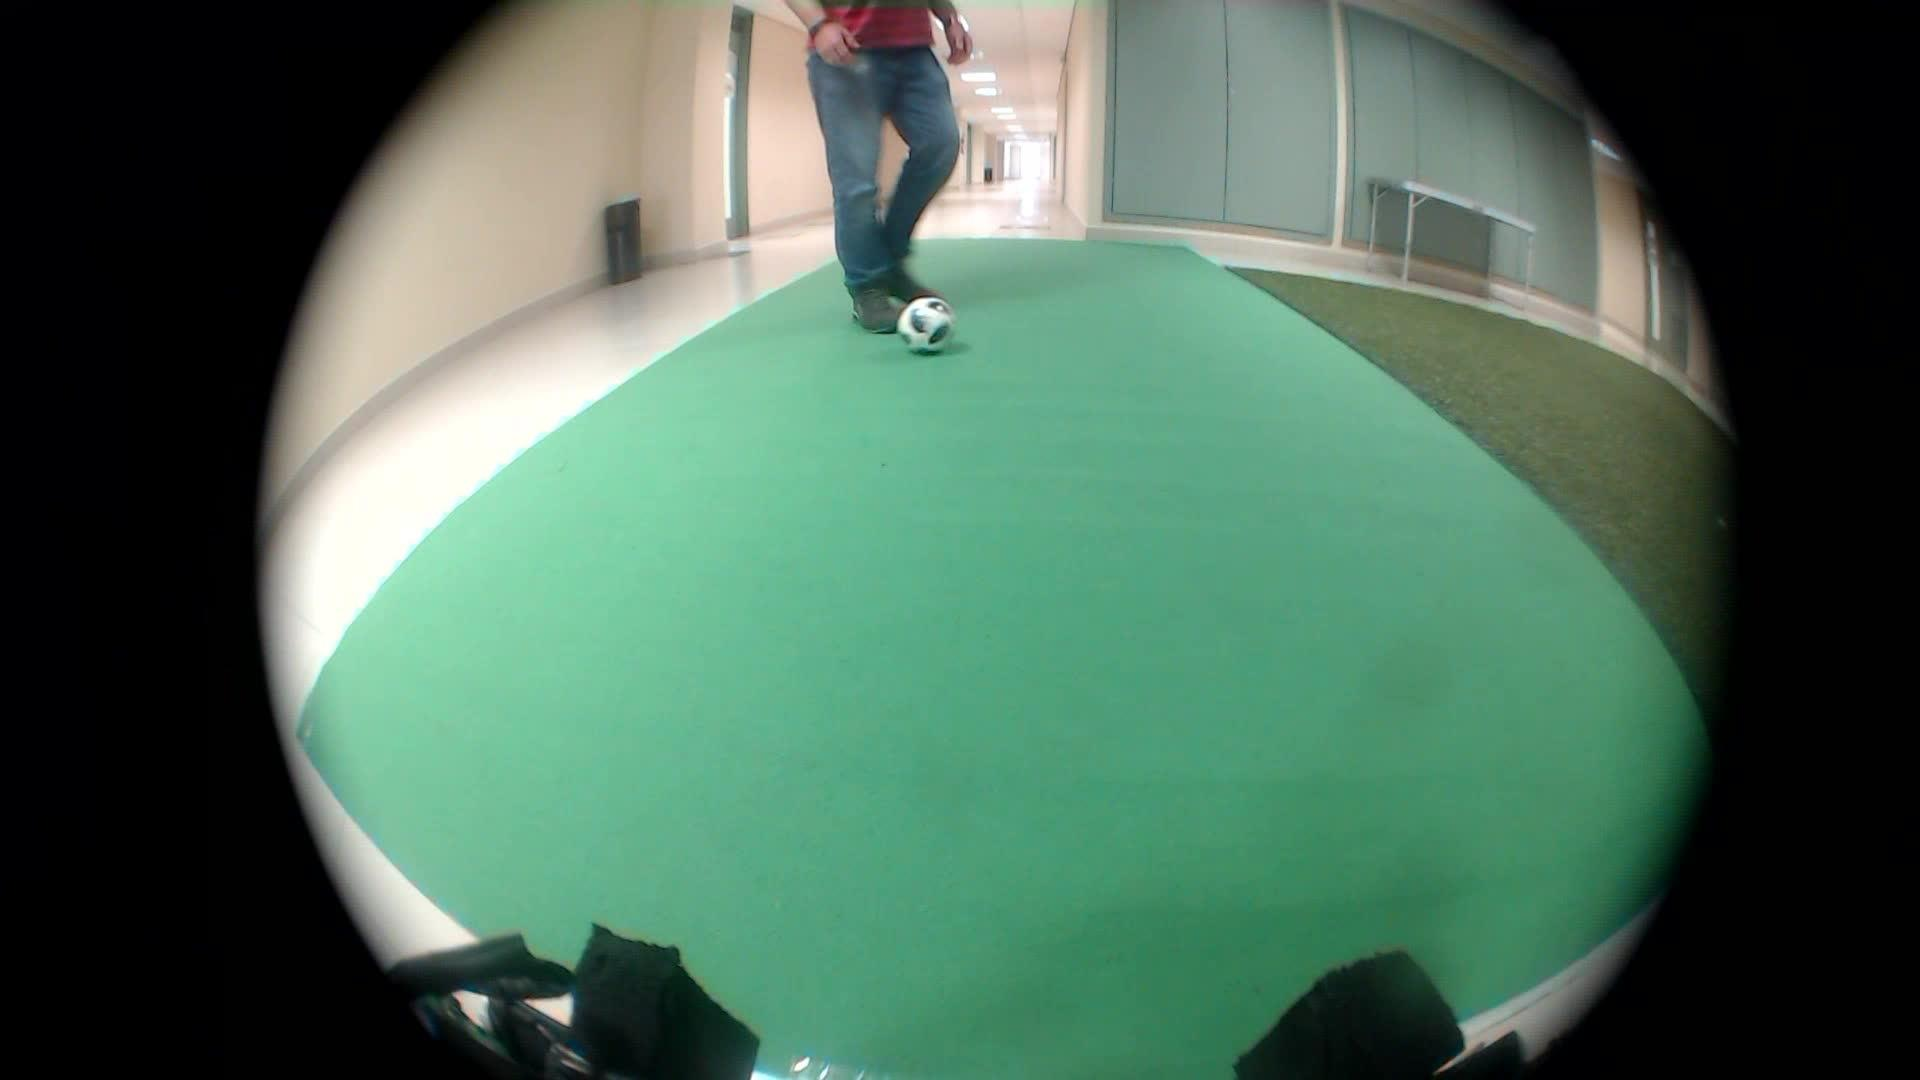ball: (886, 291, 959, 361)
